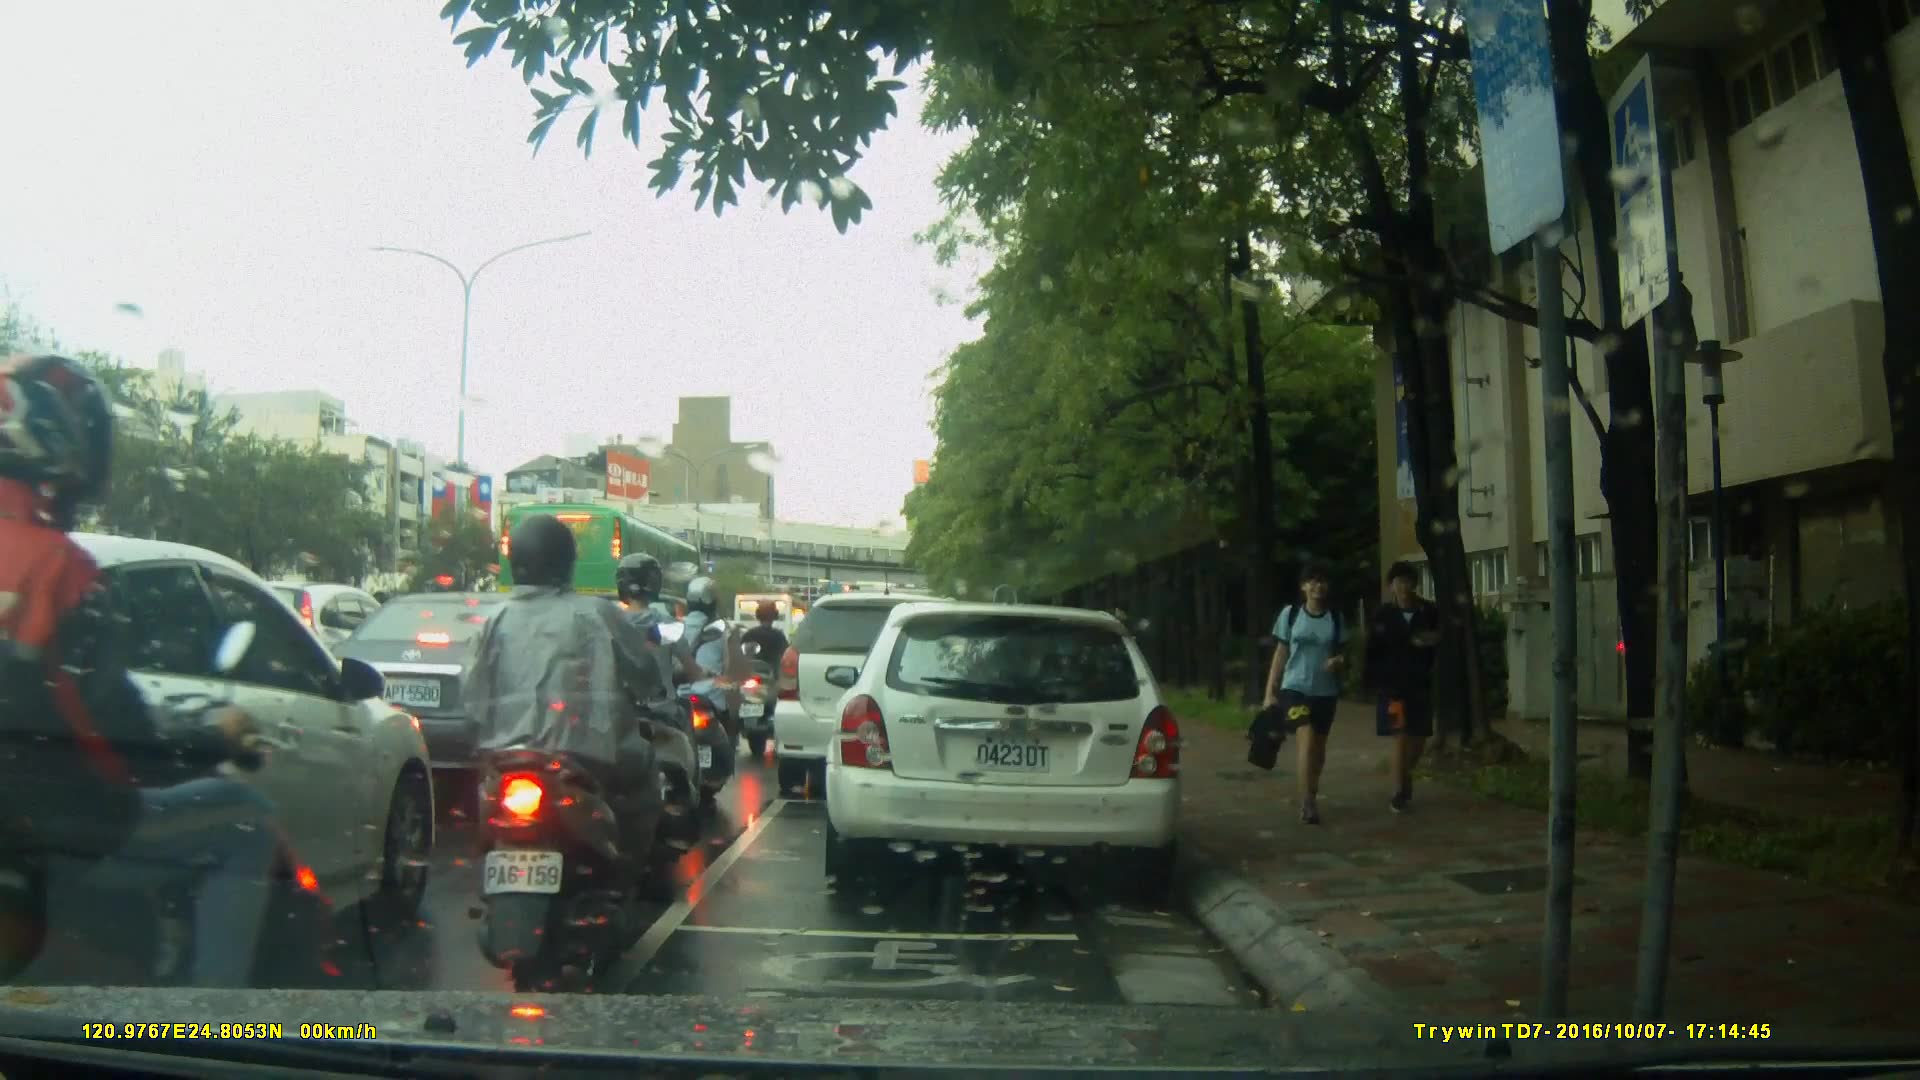pedestrian: (1244, 555, 1357, 826), (1372, 563, 1456, 815), (1110, 600, 1135, 675)
rider: (1, 344, 341, 1080), (460, 520, 686, 970), (586, 557, 712, 863), (664, 576, 745, 799), (738, 600, 800, 760)
vehicle: (1, 528, 450, 988), (831, 592, 1196, 897), (316, 590, 627, 794), (770, 591, 999, 803), (495, 500, 707, 636)
